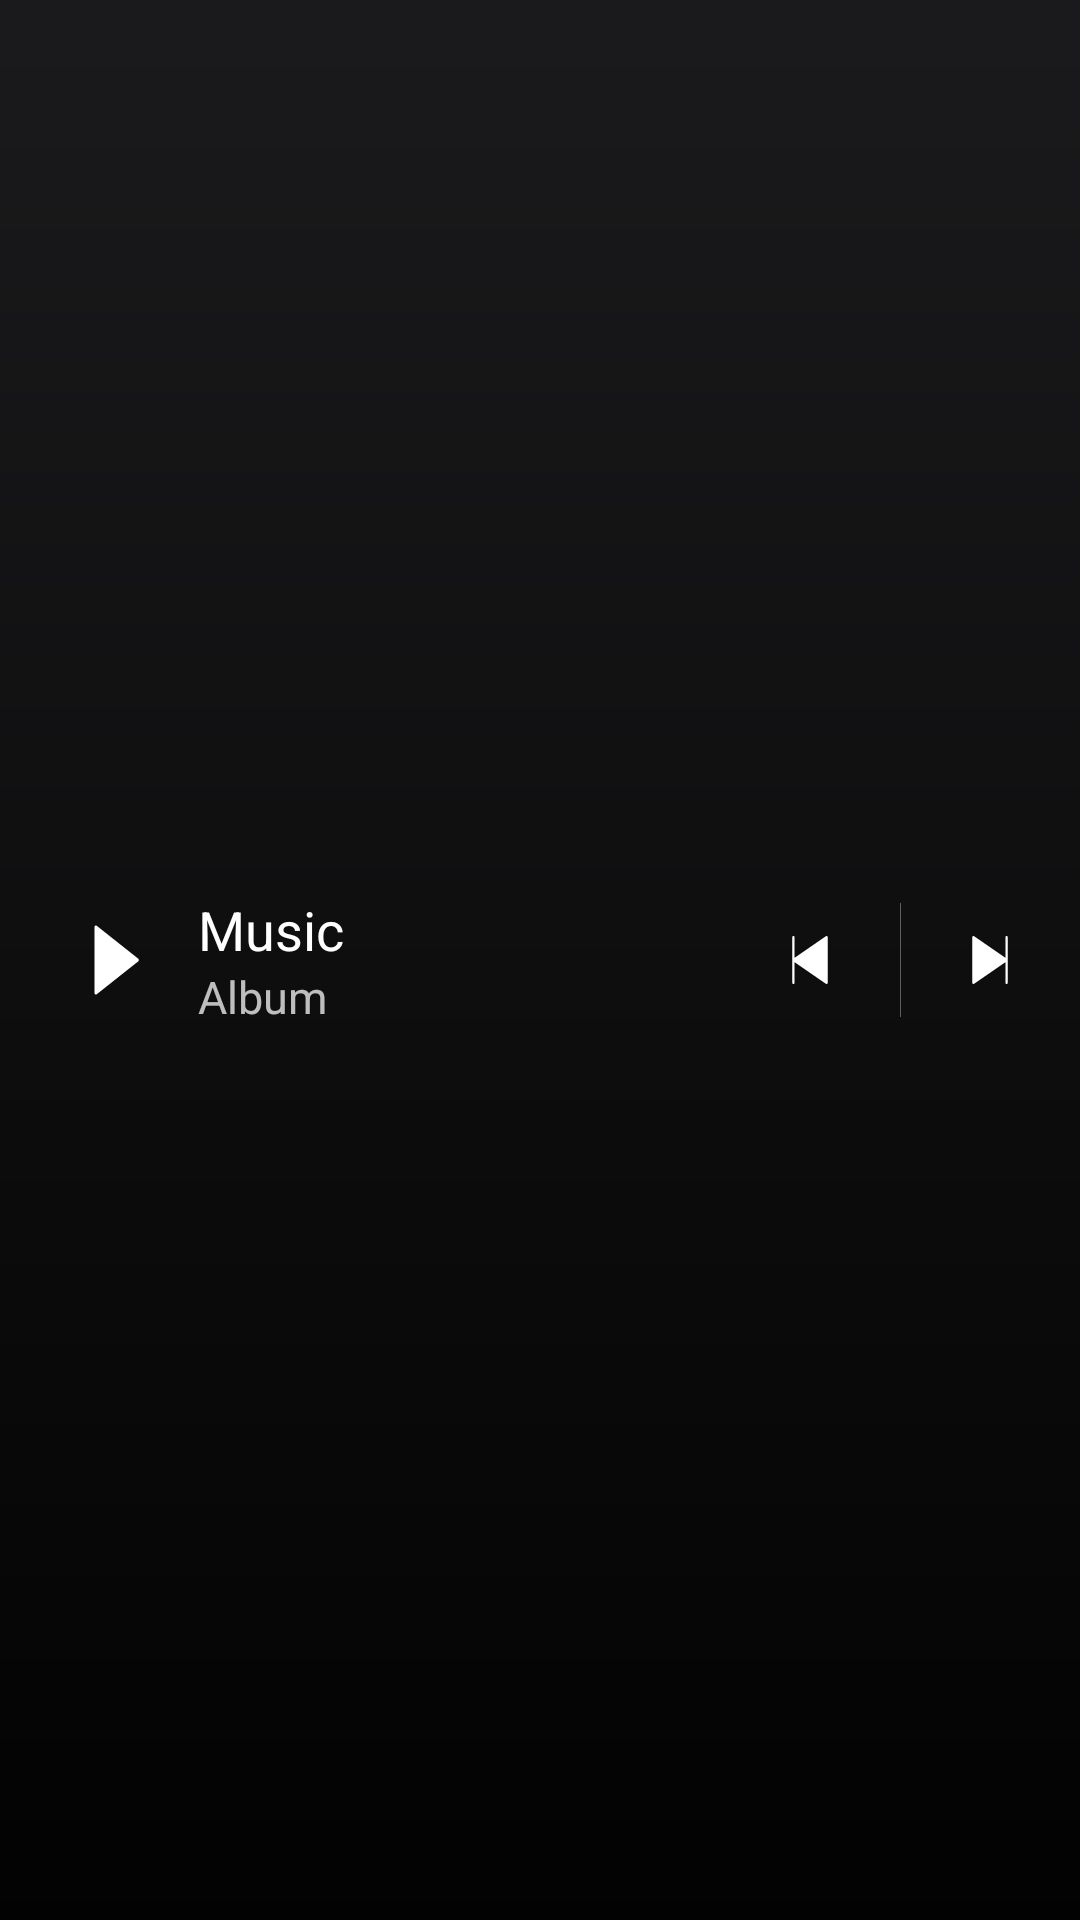

Icon click points for this 1080x1920 phone screenshot, format point (x, y):
play: point (116, 960)
